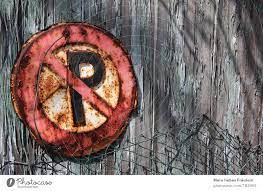No parking: (10, 16, 141, 159)
